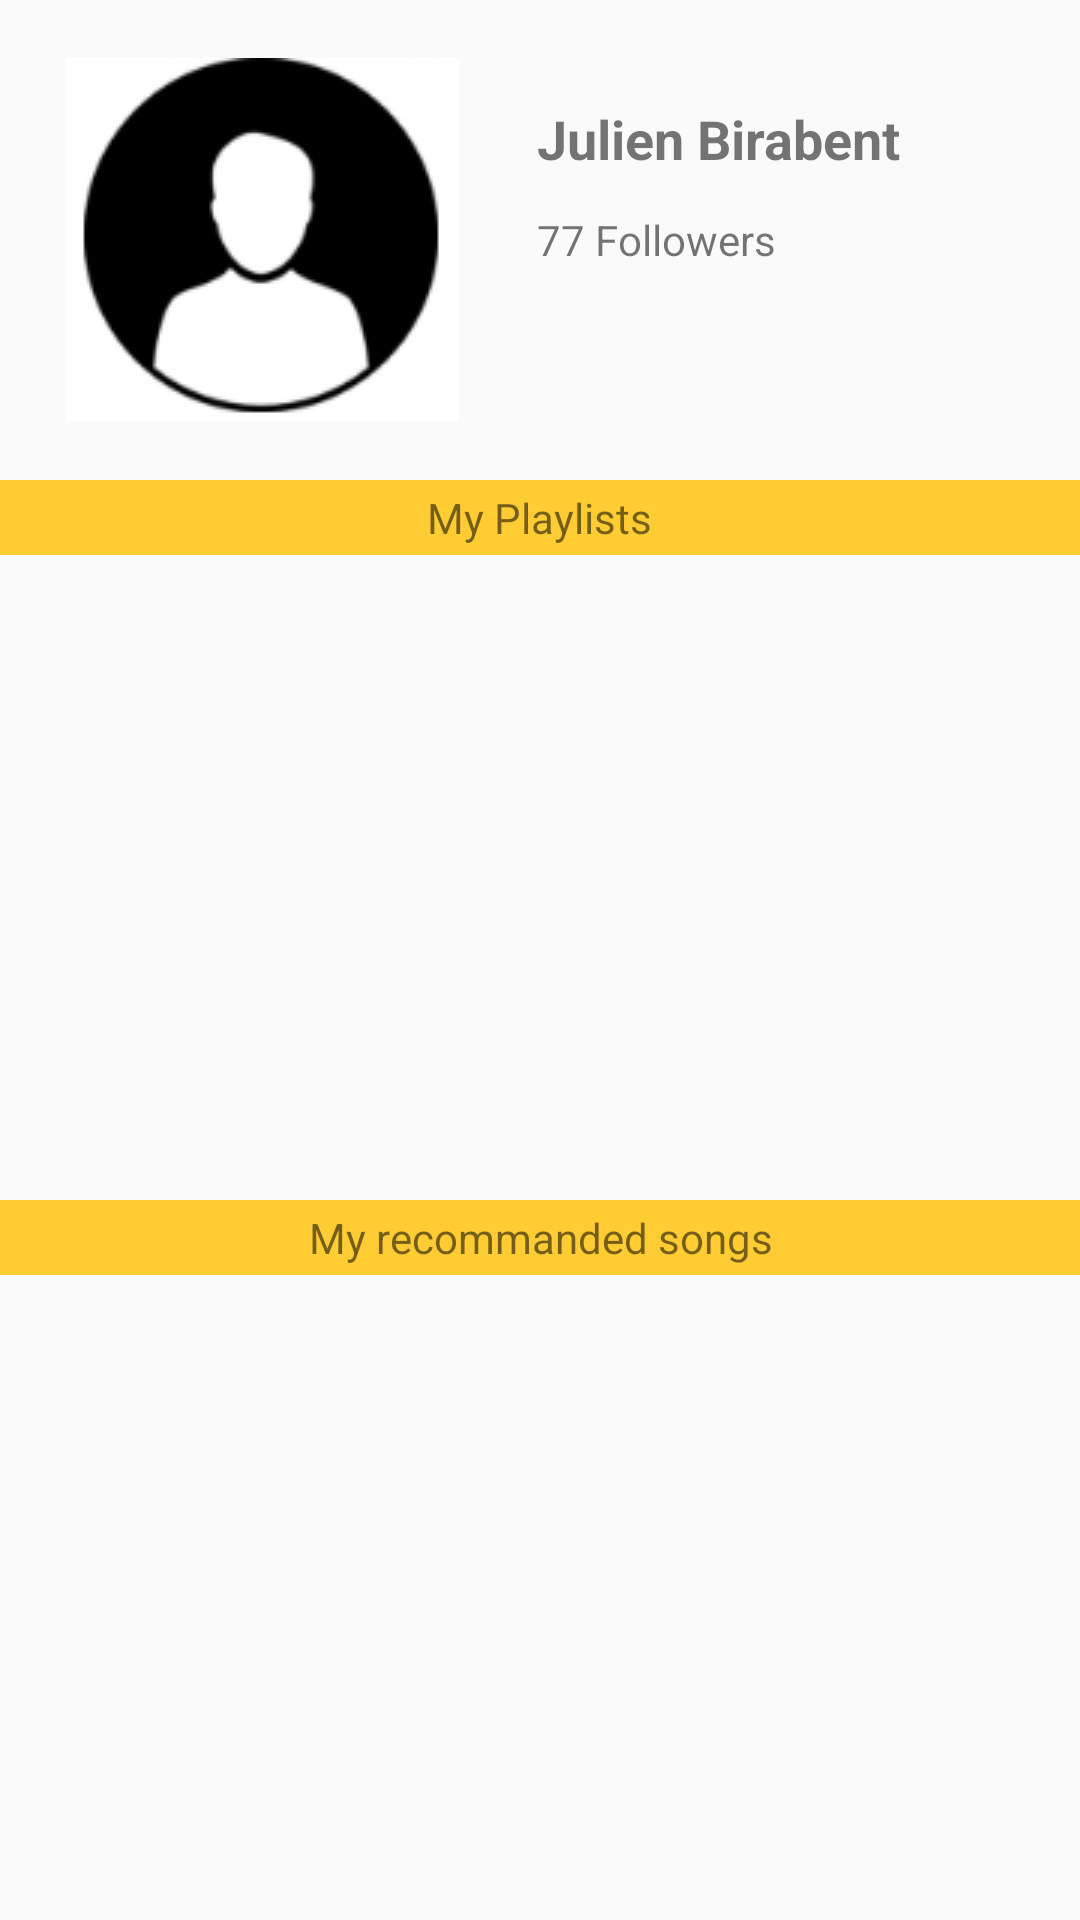

Where icons sit on this 1080 x 1920 app screen, as box=[x1, y1, x2, y2]:
thumb myprofile: box=[83, 58, 439, 413]
